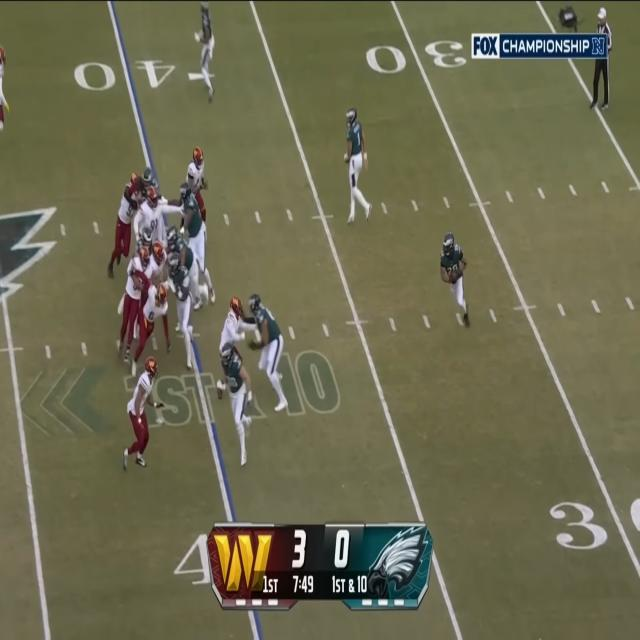Ball: (449, 270, 458, 282)
